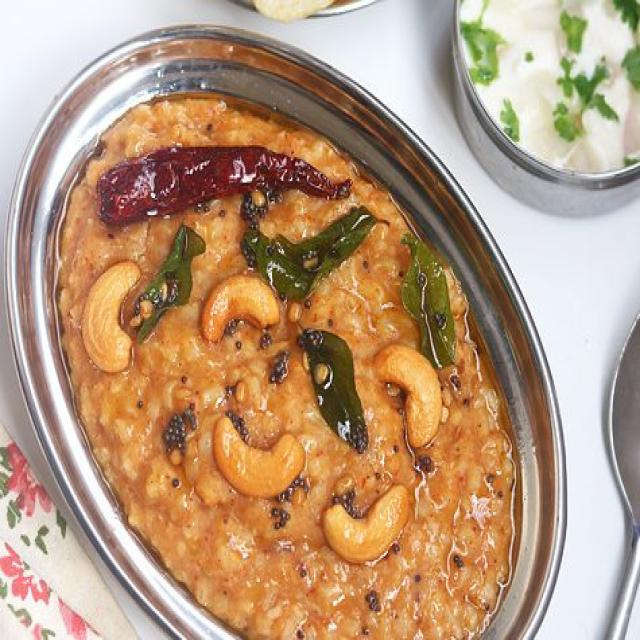bisibele bath: (4, 13, 574, 640)
